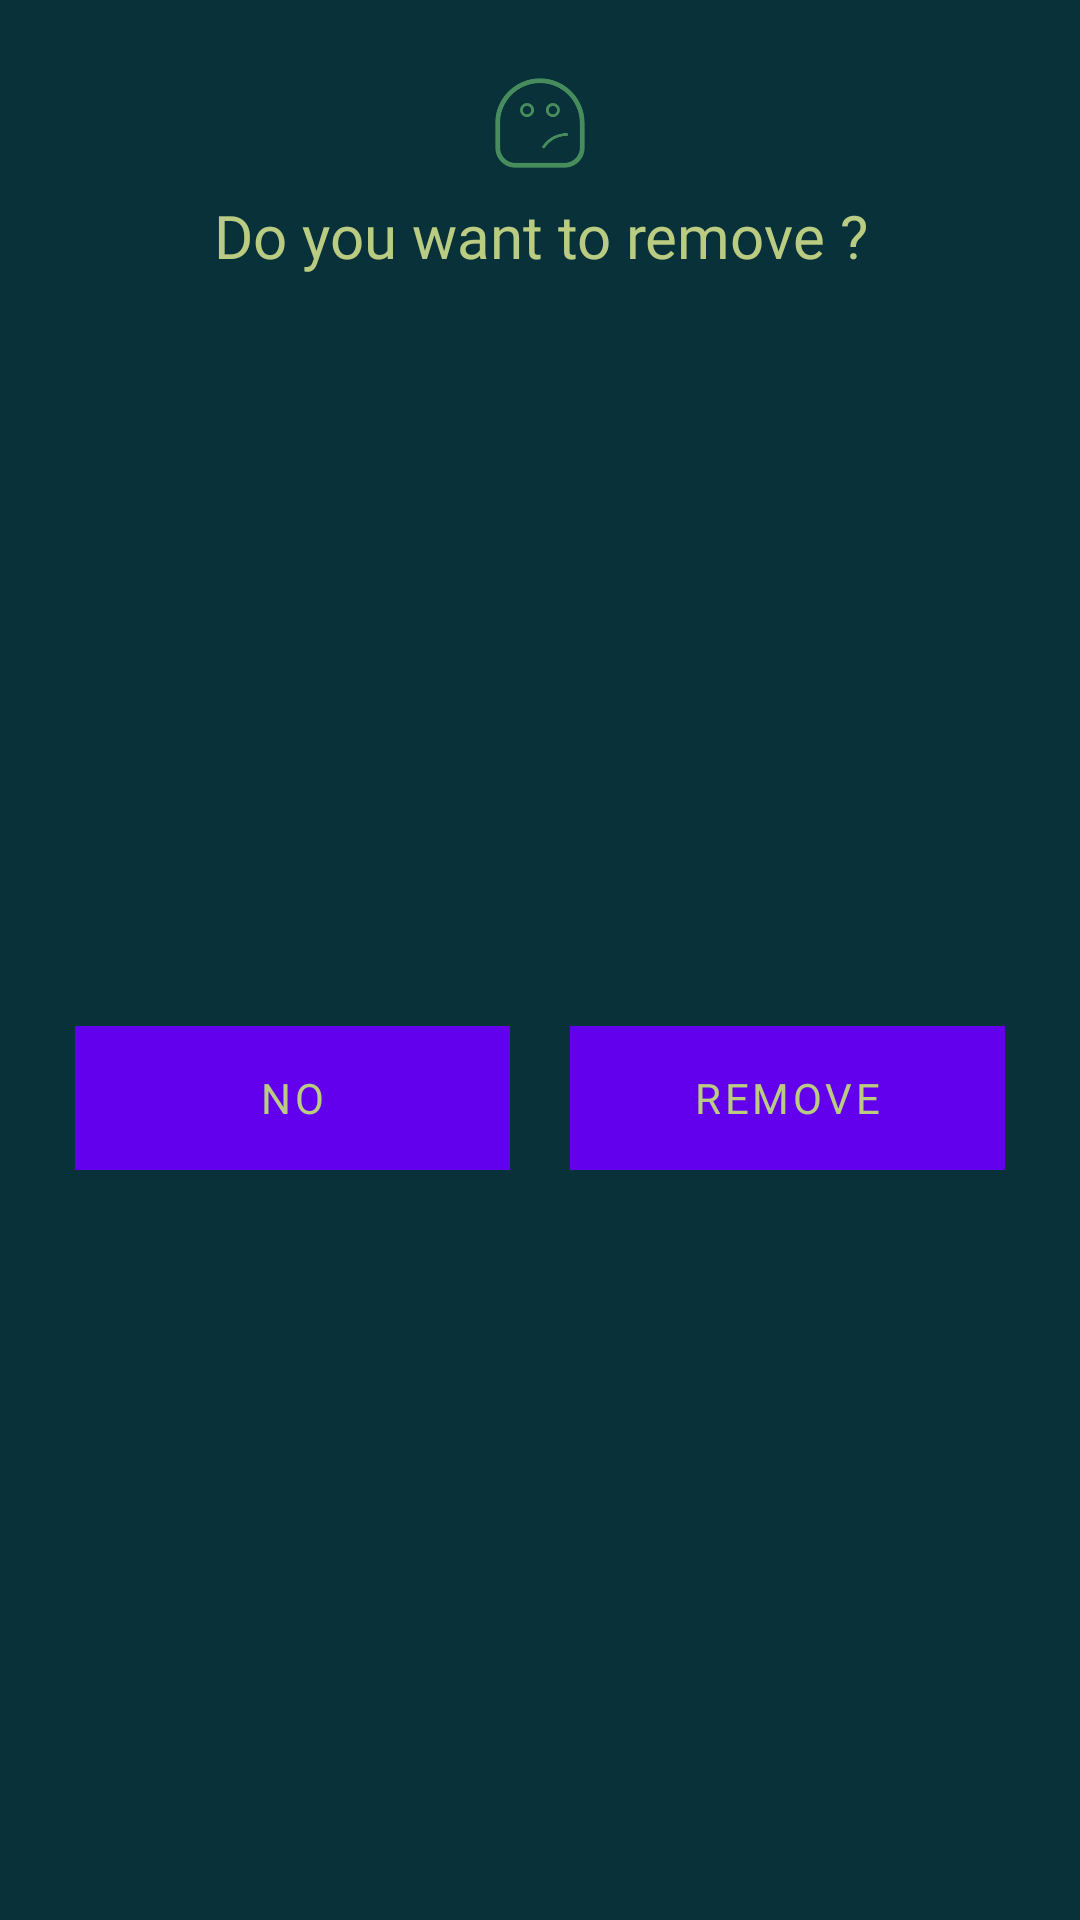

Named icons in this screenshot (1080×1920) and their centers, point (x, y):
oops: point (540, 123)
